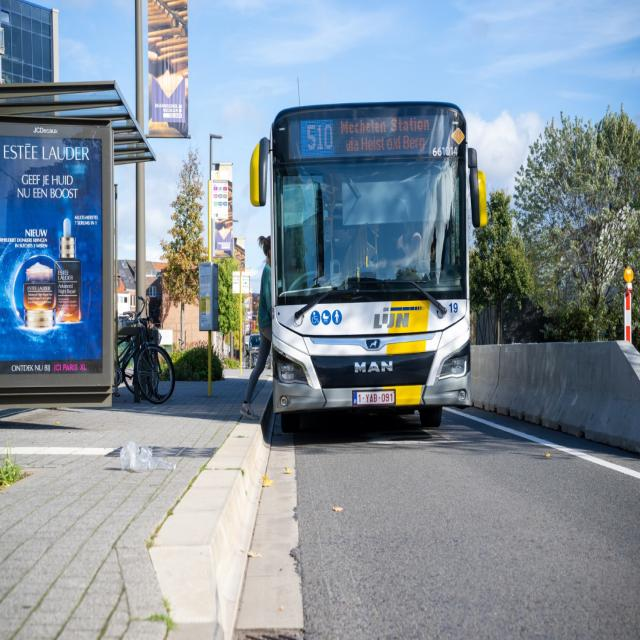bus-number: (304, 120, 336, 156)
